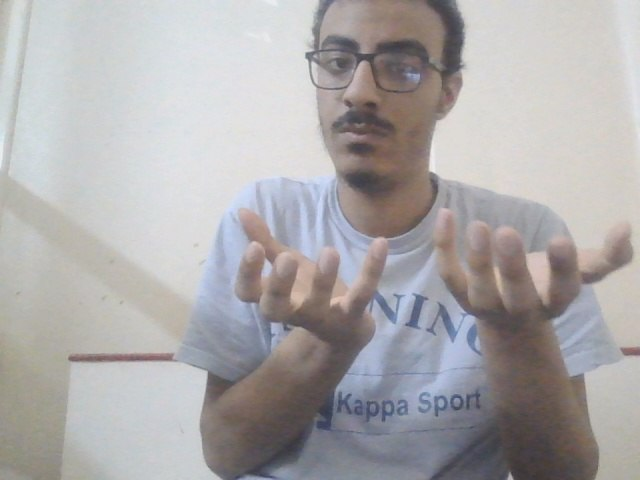What: (223, 201, 635, 338)
